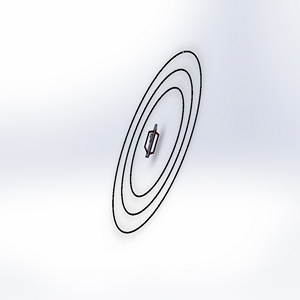circle: (109, 44, 208, 244)
submarine: (140, 121, 163, 163)
